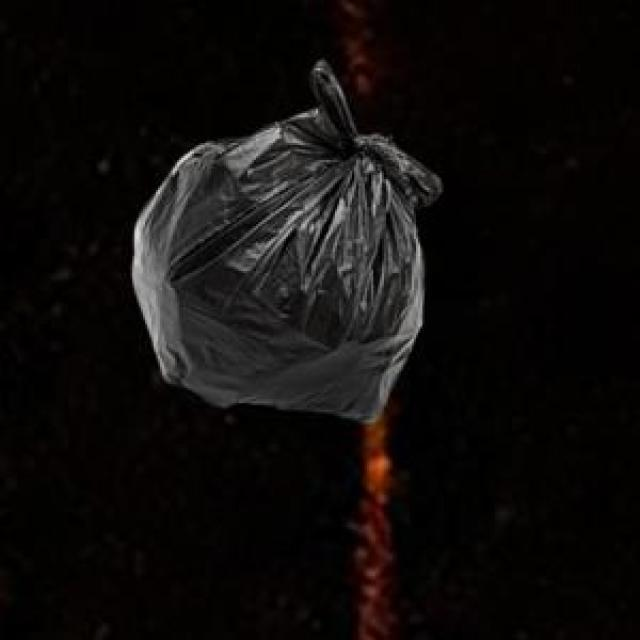waste: (132, 61, 442, 421)
